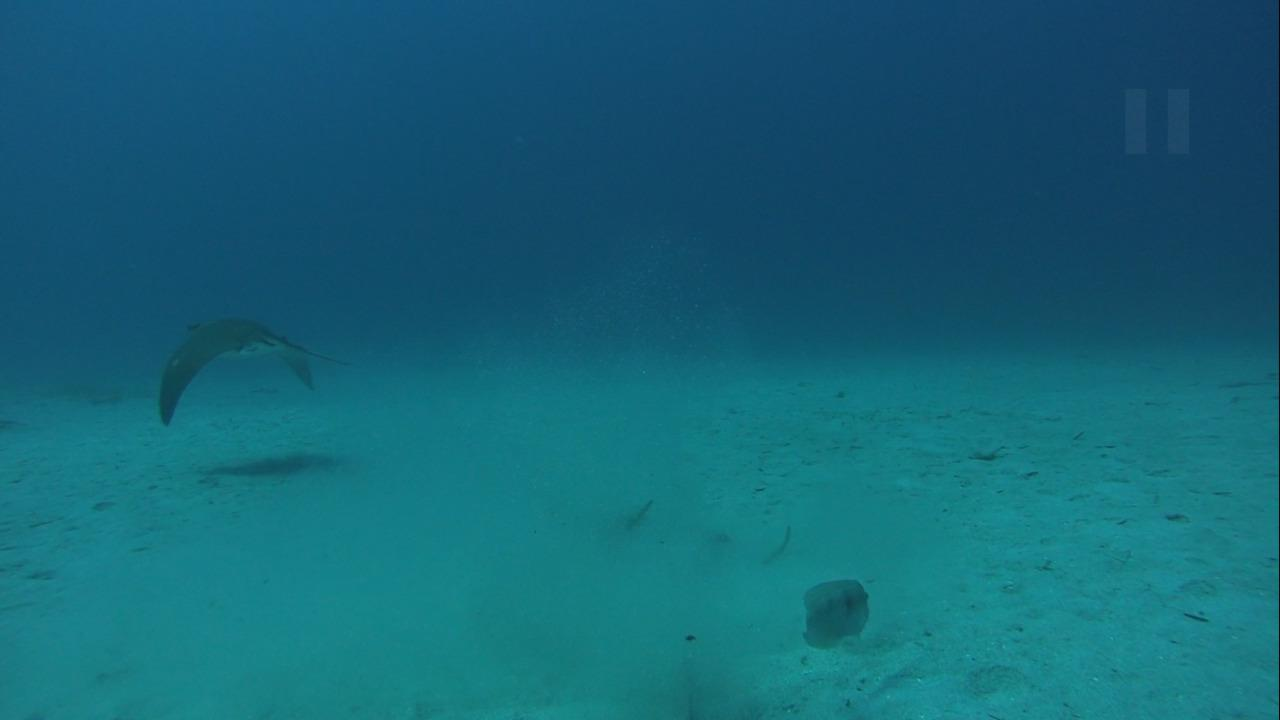myliobatis: (152, 304, 369, 431)
raor: (797, 573, 874, 651)
